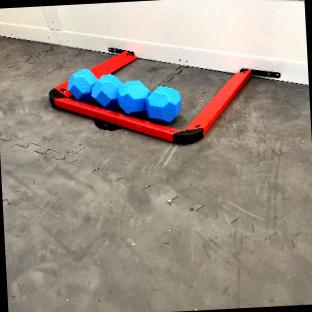Parking-R: (49, 68, 251, 143), (91, 48, 135, 76)
V5_BLUE: (67, 69, 181, 122)
